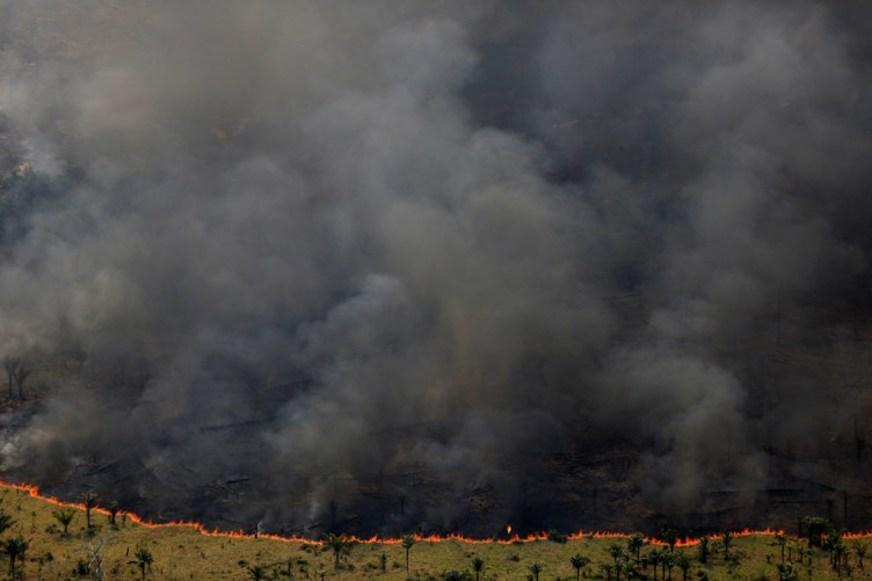smoke: (74, 4, 513, 396)
